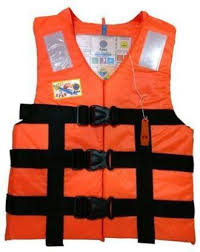Jacket: (6, 11, 198, 250)
